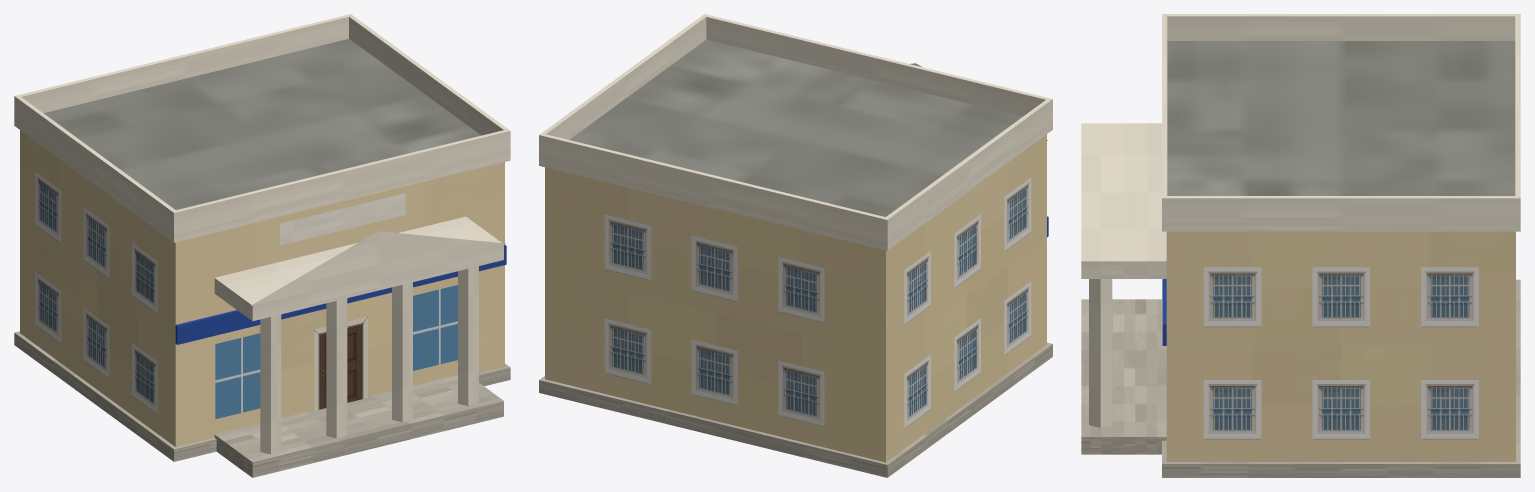
File: bank-cream-far.glb
3 renders of one model, left to right at view 1: azimuth 30°, elevation 25°; view 2: azimuth 150°, elevation 25°; view 3: azimuth 270°, elevation 25°, orthographic. The views are drawn at different scales.
Visible parts, largest first — view 1: bank-cream-far, sign_1; view 2: bank-cream-far; view 3: bank-cream-far.
Boxes of the visible parts, bbox=[...] form: bank-cream-far: bbox=[14, 14, 510, 477]; sign_1: bbox=[280, 193, 405, 245]; bank-cream-far: bbox=[539, 14, 1052, 477]; bank-cream-far: bbox=[1081, 14, 1520, 477].
Size of the model in its own units: 11.24 by 7.95 by 11.32.
1 material, 1 textured.
